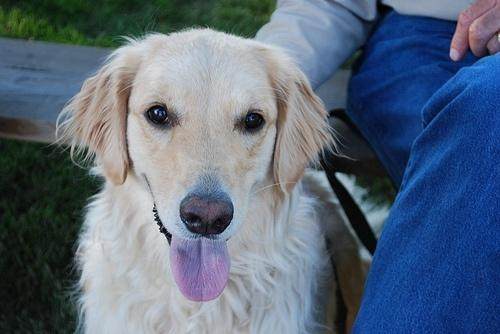dog: (59, 29, 362, 333)
